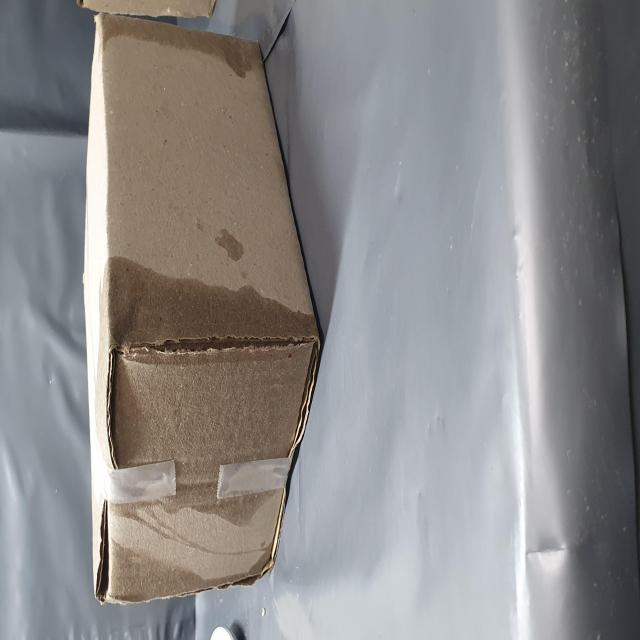wet: (69, 186, 214, 555), (313, 162, 349, 466), (15, 169, 59, 352)
